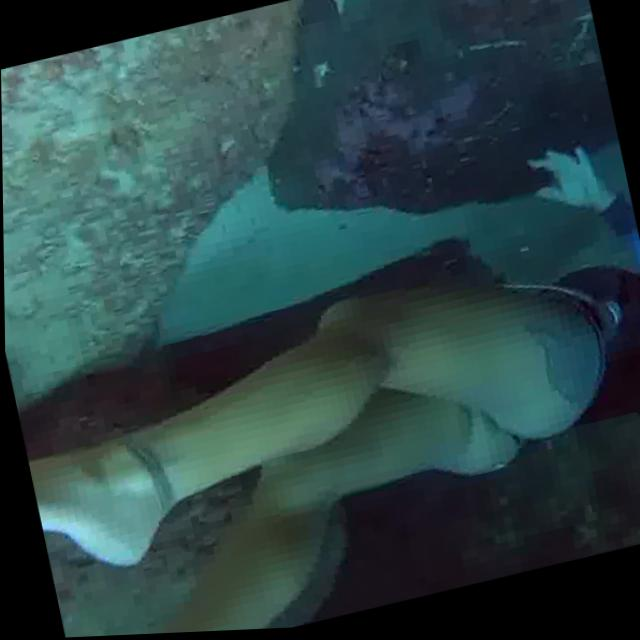human: (2, 124, 640, 640)
